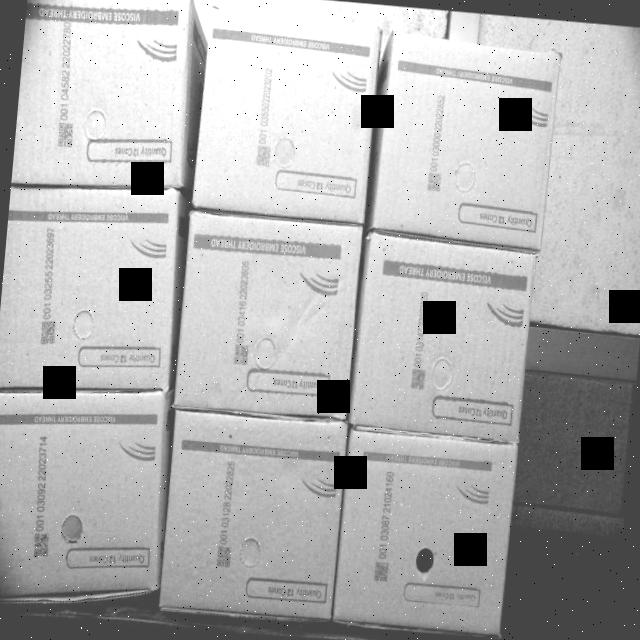box: (156, 407, 350, 631), (166, 210, 364, 427), (372, 28, 563, 248), (191, 15, 382, 227), (351, 233, 538, 446), (0, 183, 182, 400), (0, 388, 171, 615), (335, 432, 520, 640), (10, 0, 195, 198)
